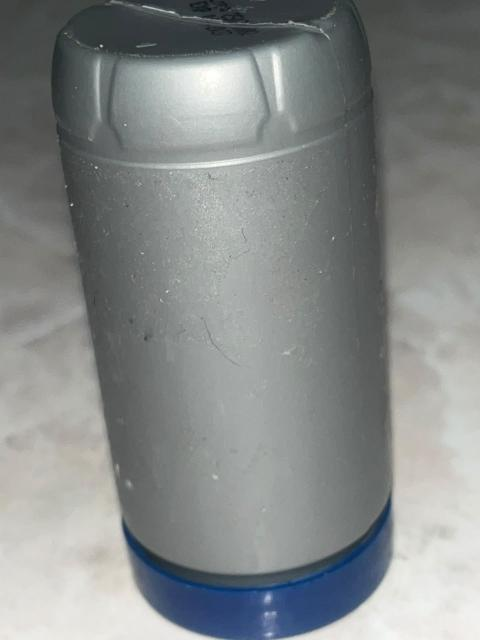HDPE: (19, 3, 435, 640)
